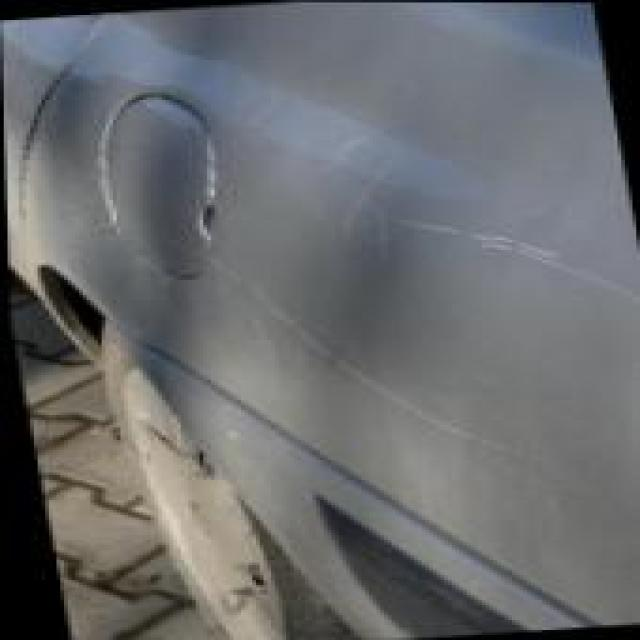Fender: (117, 62, 638, 477)
